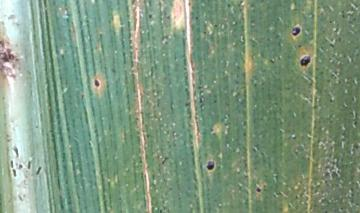tarspot: (301, 54, 311, 69), (291, 26, 302, 39), (206, 159, 216, 171), (92, 78, 101, 88), (255, 186, 262, 194), (147, 13, 154, 20)
